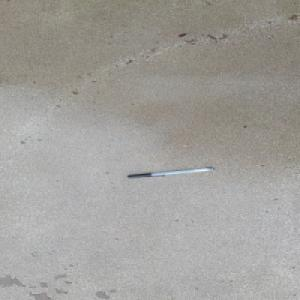Pen: (126, 166, 214, 179)
